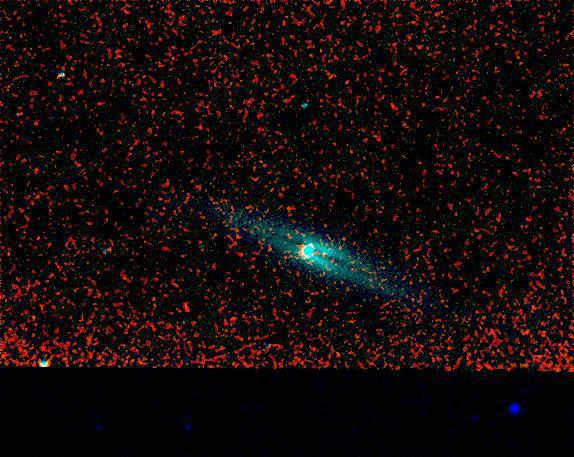star: (175, 293, 205, 323)
